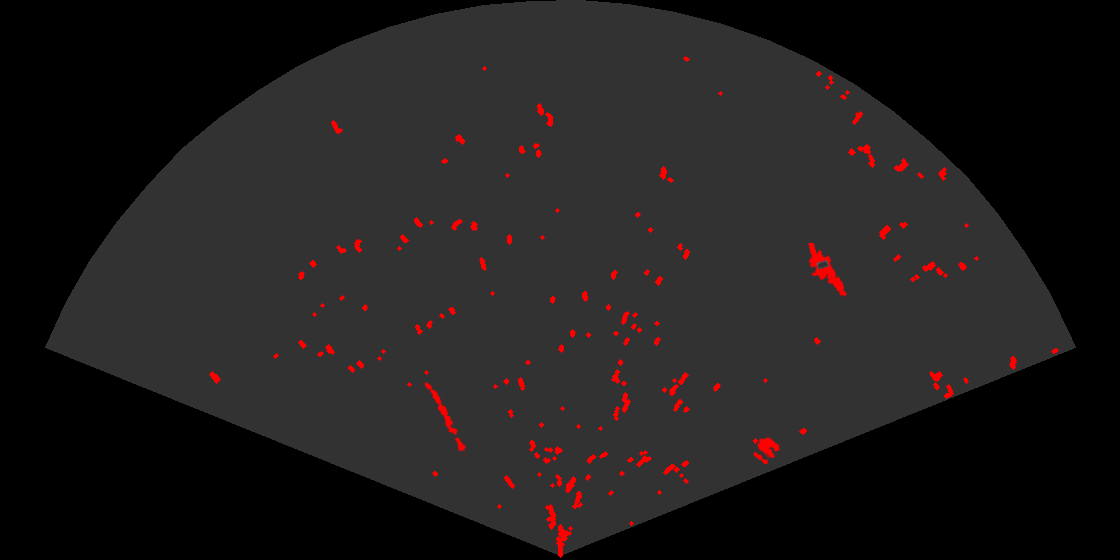ball: (752, 435, 781, 466)
chain: (423, 380, 468, 456)
frogman: (806, 243, 848, 299)
